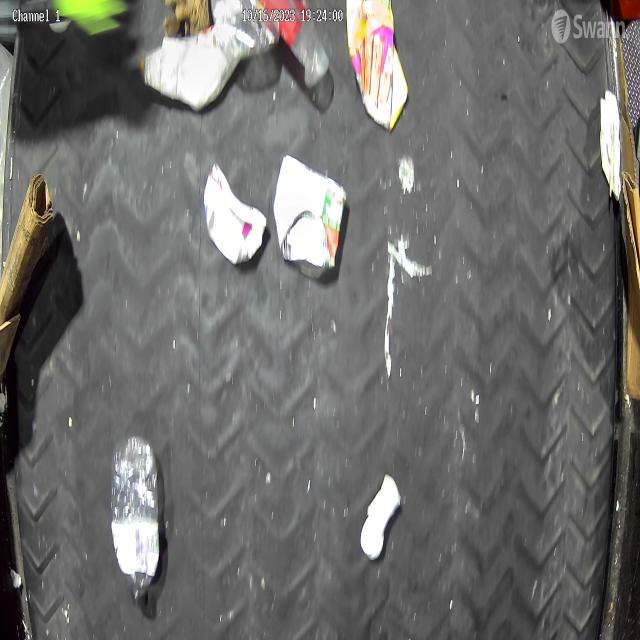can: (272, 152, 347, 283)
plastic_bottle: (109, 432, 162, 601)
